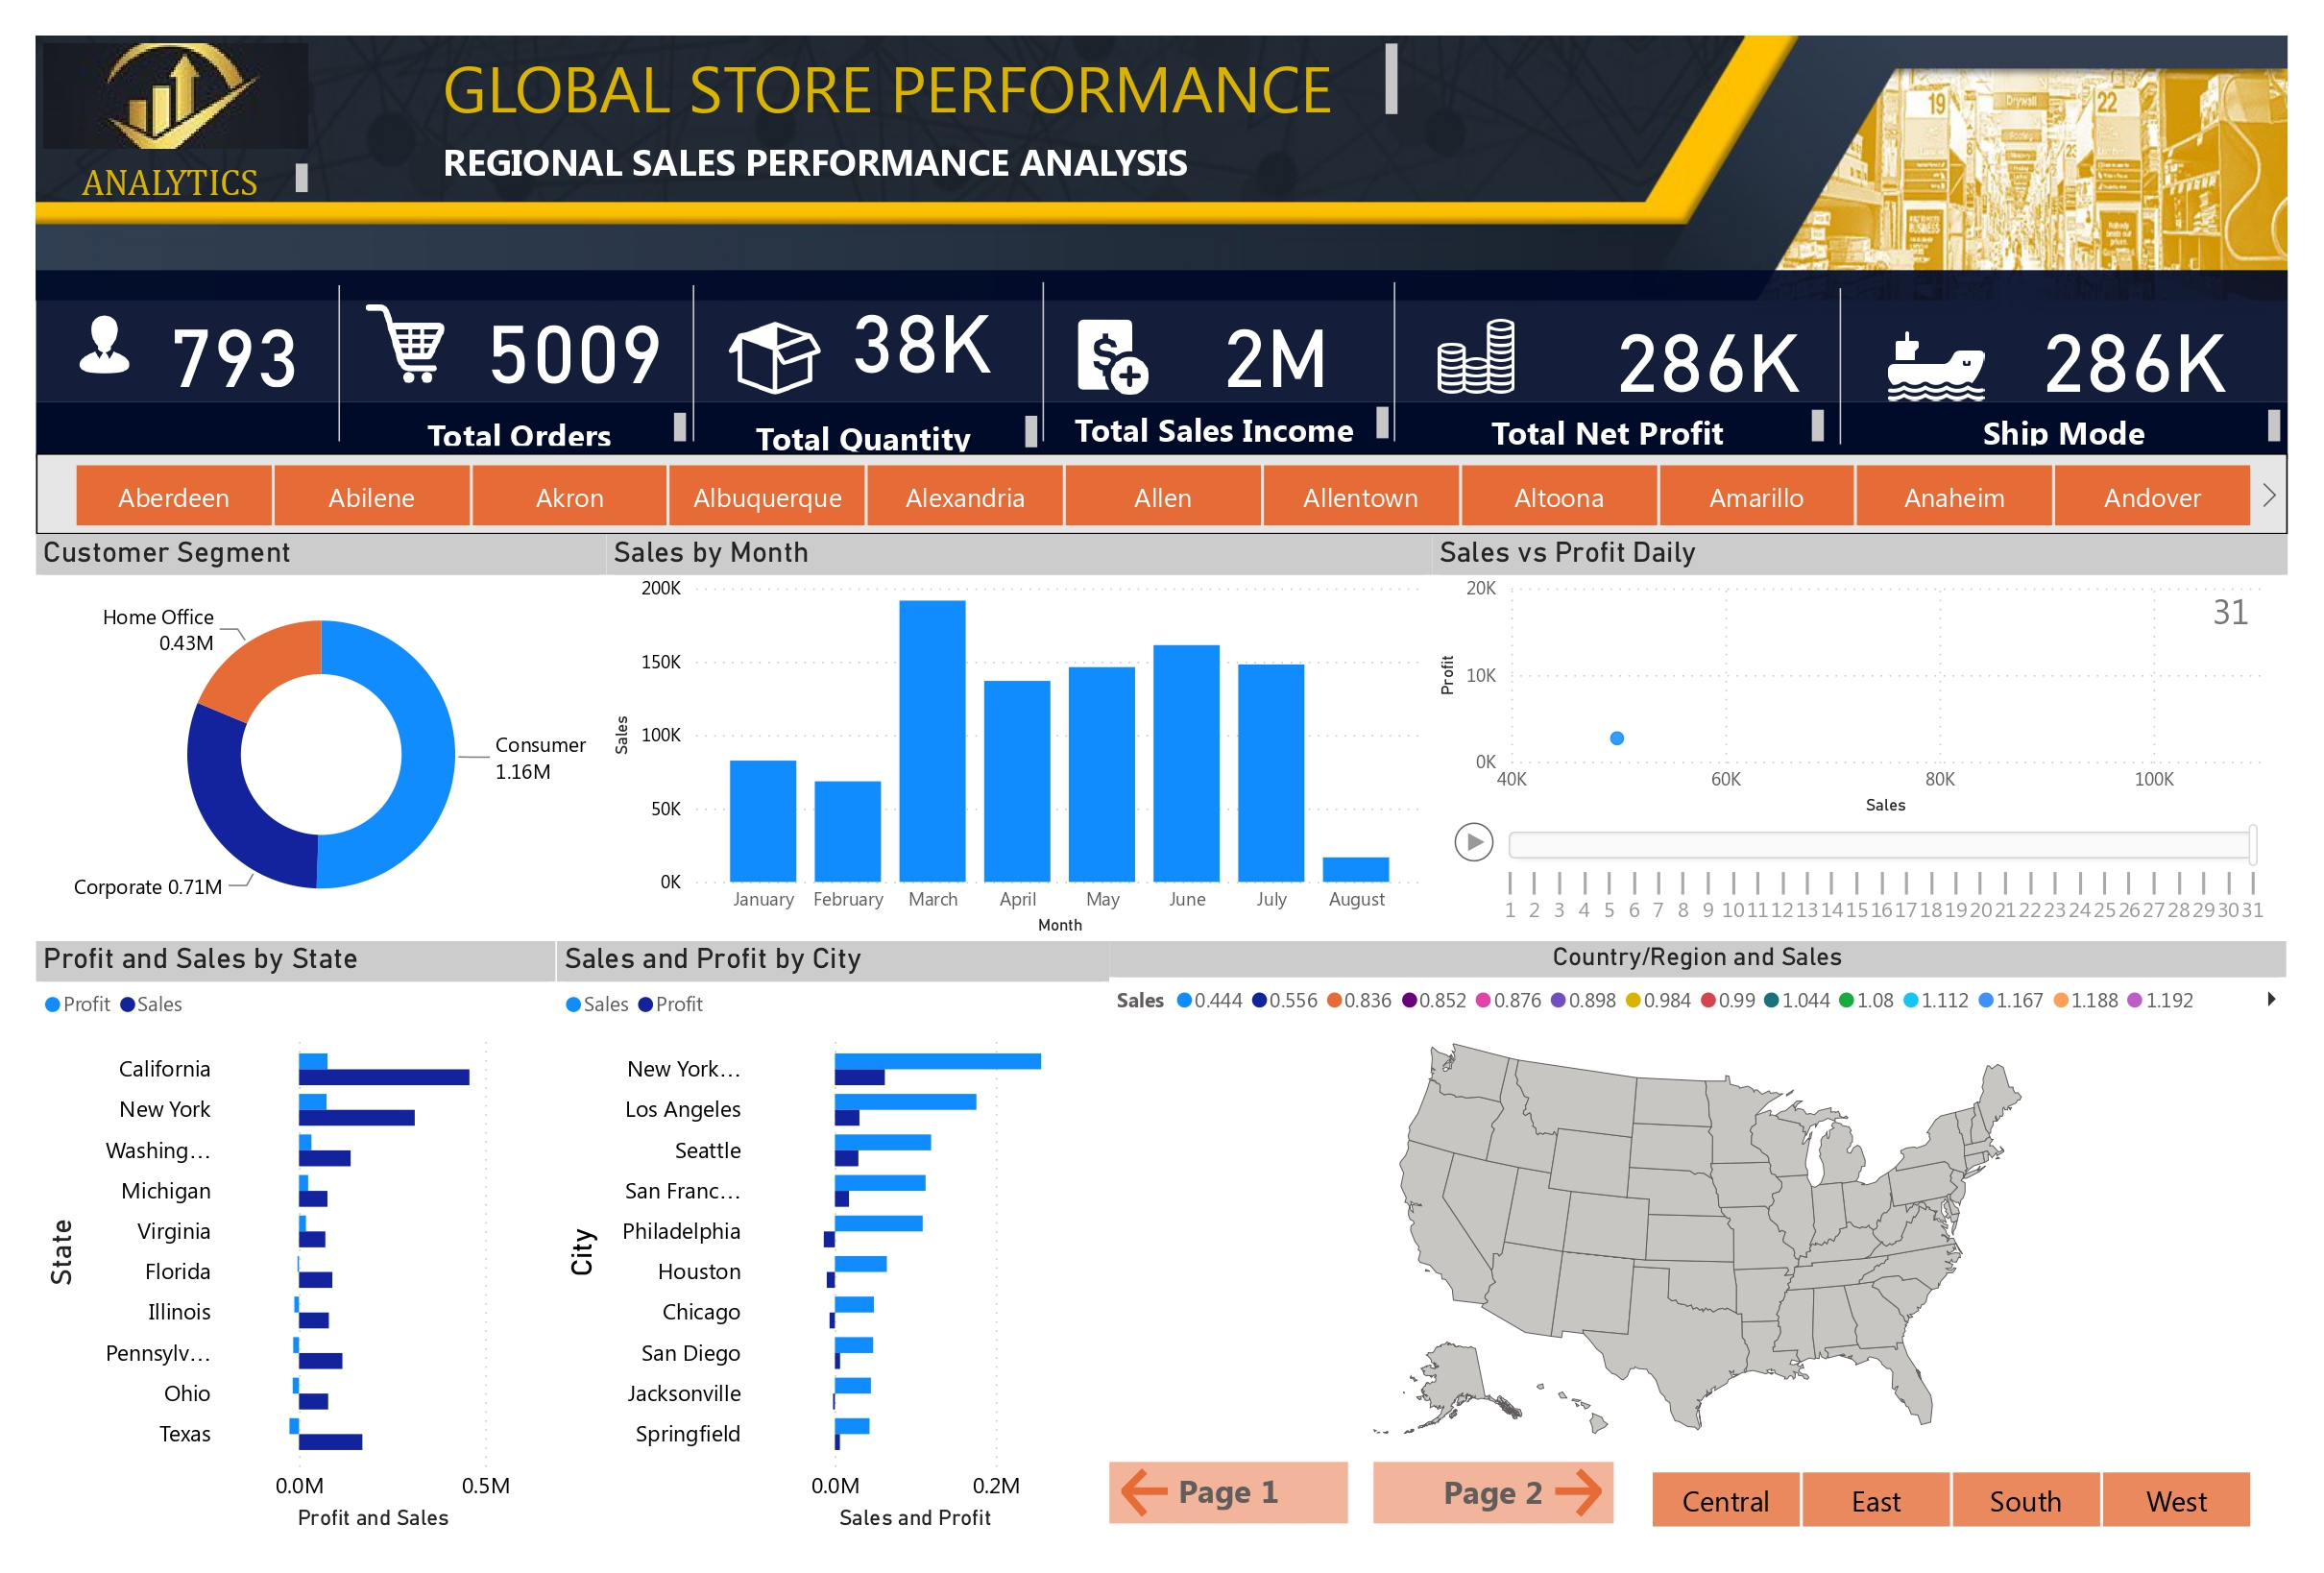

Layout of this report page (visuals, bound fields, positions):
{"tool":"powerbi","page":{"name":"Dashboard Page","canvas":[1500,1000],"ordinal":5},"visuals":[{"type":"textbox","title":"GLOBAL","box":[266,0,646,62],"z":0},{"type":"textbox","box":[266,62,544,50],"z":1000},{"type":"basicShape","box":[0,156,1500,88],"z":2000},{"type":"basicShape","box":[0,244,1500,38],"z":3000},{"type":"image","box":[20.5,177.9,49.6,54.7],"z":4000},{"type":"basicShape","box":[194,156,16,124],"z":5000},{"type":"basicShape","box":[1194,158,16,124],"z":6000},{"type":"basicShape","box":[898,154,14,126],"z":7000},{"type":"basicShape","box":[430,156,16,124],"z":8000},{"type":"basicShape","box":[664,154,14,126],"z":9000},{"type":"card","fields":{"Values":["Count(Orders.Order ID)"]},"box":[286,172,144,66],"z":10000},{"type":"image","box":[214,174,64,62],"z":11000},{"type":"image","box":[446,172,92,72],"z":12000},{"type":"card","fields":{"Values":["Orders.Total Net Profit"]},"box":[1042,178,144,66],"z":13000},{"type":"card","fields":{"Values":["Sum(Orders.Quantity)"]},"box":[518,164,144,68],"z":14000},{"type":"card","fields":{"Values":["Orders.Total Sales Income"]},"box":[754,174,144,68],"z":15000},{"type":"card","fields":{"Values":["Count(Orders.Customer ID)"]},"box":[72.9,176.7,117.8,62],"z":16000},{"type":"image","box":[678,180,72,64],"z":17000},{"type":"image","box":[916,182,86,62],"z":18000},{"type":"textbox","box":[906,244,290,34],"z":19000},{"type":"textbox","box":[214,246,224,32],"z":20000},{"type":"textbox","box":[438,248,234,34],"z":21000},{"type":"textbox","box":[672,242,234,34],"z":22000},{"type":"slicer","fields":{"Values":["Orders.City"]},"box":[0,278,1500,54],"z":23000},{"type":"slicer","fields":{"Values":["Orders.Region"]},"box":[1051.2,950.4,448.1,49.6],"z":24000},{"type":"image","box":[0,0,186,80],"z":25000},{"type":"textbox","box":[0,80,186,32],"z":26000},{"type":"card","fields":{"Values":["Orders.Total Net Profit"]},"box":[1326,178,144,66],"z":27000},{"type":"image","box":[1224,174,84,74],"z":28000},{"type":"textbox","box":[1210,244,290,34],"z":29000},{"type":"donutChart","title":"Customer Segment","fields":{"Y":["Sum(Orders.Sales)"],"Category":["Orders.Segment"]},"box":[0,331.8,379.8,271.3],"z":30000},{"type":"columnChart","fields":{"Category":["Orders.Ship Date.Variation.Date Hierarchy.Month"],"Y":["Sum(Orders.Sales)"]},"box":[379.8,331.8,550.4,271.3],"z":31000},{"type":"clusteredBarChart","fields":{"Y":["Sum(Orders.Profit)","Sum(Orders.Sales)"],"Category":["Orders.State"]},"box":[0,603.1,345.7,396.9],"z":32000},{"type":"clusteredBarChart","fields":{"Y":["Sum(Orders.Sales)","Sum(Orders.Profit)"],"Category":["Orders.City"]},"box":[347.3,603.1,367.4,396.9],"z":33000},{"type":"scatterChart","title":"Sales vs Profit Daily","fields":{"X":["Sum(Orders.Sales)"],"Y":["Sum(Orders.Profit)"],"Play":["Orders.Ship Date.Variation.Date Hierarchy.Day"]},"box":[930.2,331.8,570.5,271.3],"z":34000},{"type":"shapeMap","fields":{"Category":["Orders.Country/Region"],"Series":["Orders.Sales"]},"box":[714.7,603.1,784.5,347.3],"z":35000},{"type":"actionButton","box":[714.7,950.4,159.7,40.3],"z":38000},{"type":"actionButton","box":[891.5,950.4,159.7,40.3],"z":39000}]}

Visuals, with their boxes on the page's 1500x1000 design canvas (x1, y1, x2, y2). These are canvas units, not pixel positions in the 2324x1573 screenshot, which may show the page scaled, cropped or inside an application window:
"GLOBAL" textbox: l=266, t=0, r=912, b=62
textbox: l=266, t=62, r=810, b=112
basicShape: l=0, t=156, r=1500, b=244
basicShape: l=0, t=244, r=1500, b=282
image: l=20, t=178, r=70, b=233
basicShape: l=194, t=156, r=210, b=280
basicShape: l=1194, t=158, r=1210, b=282
basicShape: l=898, t=154, r=912, b=280
basicShape: l=430, t=156, r=446, b=280
basicShape: l=664, t=154, r=678, b=280
card - Count(Orders.Order ID): l=286, t=172, r=430, b=238
image: l=214, t=174, r=278, b=236
image: l=446, t=172, r=538, b=244
card - Orders.Total Net Profit: l=1042, t=178, r=1186, b=244
card - Sum(Orders.Quantity): l=518, t=164, r=662, b=232
card - Orders.Total Sales Income: l=754, t=174, r=898, b=242
card - Count(Orders.Customer ID): l=73, t=177, r=191, b=239
image: l=678, t=180, r=750, b=244
image: l=916, t=182, r=1002, b=244
textbox: l=906, t=244, r=1196, b=278
textbox: l=214, t=246, r=438, b=278
textbox: l=438, t=248, r=672, b=282
textbox: l=672, t=242, r=906, b=276
slicer - Orders.City: l=0, t=278, r=1500, b=332
slicer - Orders.Region: l=1051, t=950, r=1499, b=1000
image: l=0, t=0, r=186, b=80
textbox: l=0, t=80, r=186, b=112
card - Orders.Total Net Profit: l=1326, t=178, r=1470, b=244
image: l=1224, t=174, r=1308, b=248
textbox: l=1210, t=244, r=1500, b=278
"Customer Segment" donutChart: l=0, t=332, r=380, b=603
columnChart - Orders.Ship Date.Variation.Date Hierarchy.Month x Sum(Orders.Sales): l=380, t=332, r=930, b=603
clusteredBarChart - Sum(Orders.Profit) x Sum(Orders.Sales): l=0, t=603, r=346, b=1000
clusteredBarChart - Sum(Orders.Sales) x Sum(Orders.Profit): l=347, t=603, r=715, b=1000
"Sales vs Profit Daily" scatterChart: l=930, t=332, r=1501, b=603
shapeMap - Orders.Country/Region x Orders.Sales: l=715, t=603, r=1499, b=950
actionButton: l=715, t=950, r=874, b=991
actionButton: l=892, t=950, r=1051, b=991
